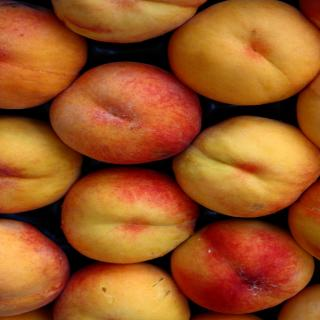Peach: (0, 0, 320, 320), (47, 63, 205, 167)
